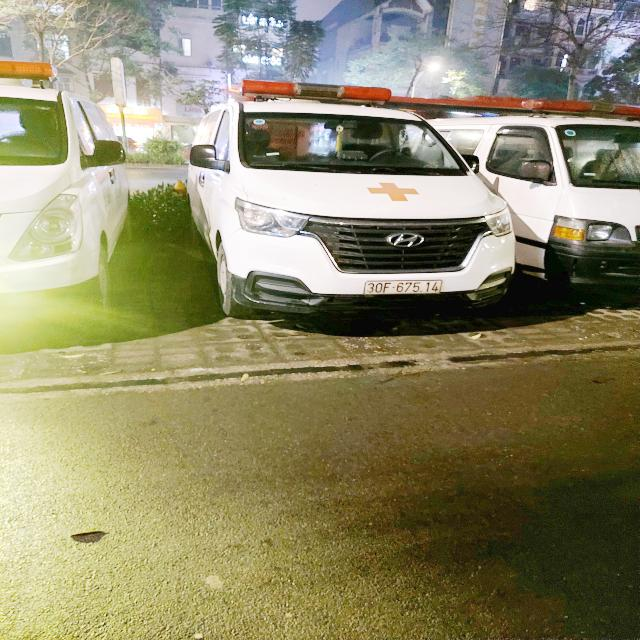license_plate: (362, 280, 445, 297)
